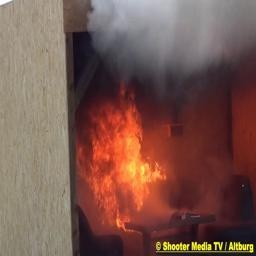fire: (69, 91, 192, 237)
smoke: (80, 0, 256, 85)
